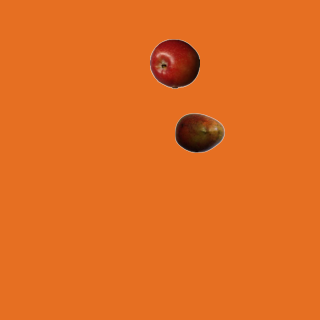Apple Braeburn: (149, 38, 199, 88)
Mango Red: (174, 107, 224, 157)
